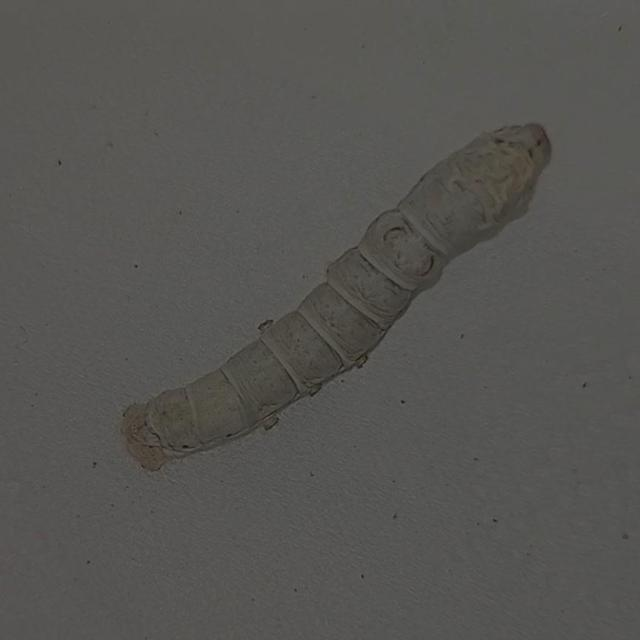Healthy: (85, 94, 567, 495)
